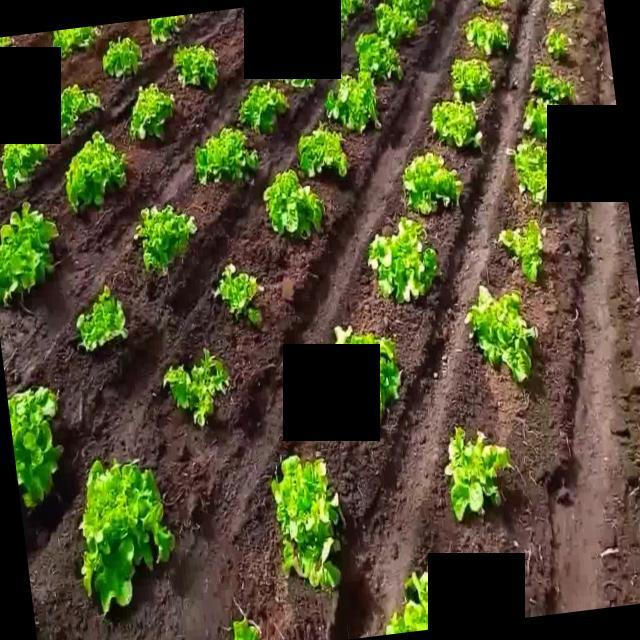Lettuce: (82, 451, 176, 610), (273, 450, 351, 594), (0, 382, 64, 512), (467, 282, 538, 386), (364, 211, 440, 305), (330, 321, 403, 413), (61, 127, 132, 219), (442, 427, 508, 525), (161, 351, 235, 432), (0, 204, 58, 303), (133, 202, 195, 282), (261, 167, 324, 241), (402, 148, 466, 220), (196, 124, 262, 189), (385, 570, 440, 640), (326, 68, 381, 134), (296, 123, 352, 187), (129, 80, 178, 151), (210, 266, 271, 322), (77, 283, 127, 351), (498, 217, 545, 283), (168, 40, 223, 95), (429, 98, 484, 152), (238, 81, 292, 134), (508, 133, 550, 201), (1, 141, 52, 197), (354, 31, 406, 83), (56, 78, 104, 127), (464, 15, 515, 56), (100, 35, 148, 77), (48, 22, 102, 58), (528, 63, 574, 104), (450, 60, 497, 97), (375, 4, 415, 44), (521, 96, 557, 138), (150, 15, 188, 46), (540, 27, 574, 61), (395, 0, 433, 23)
